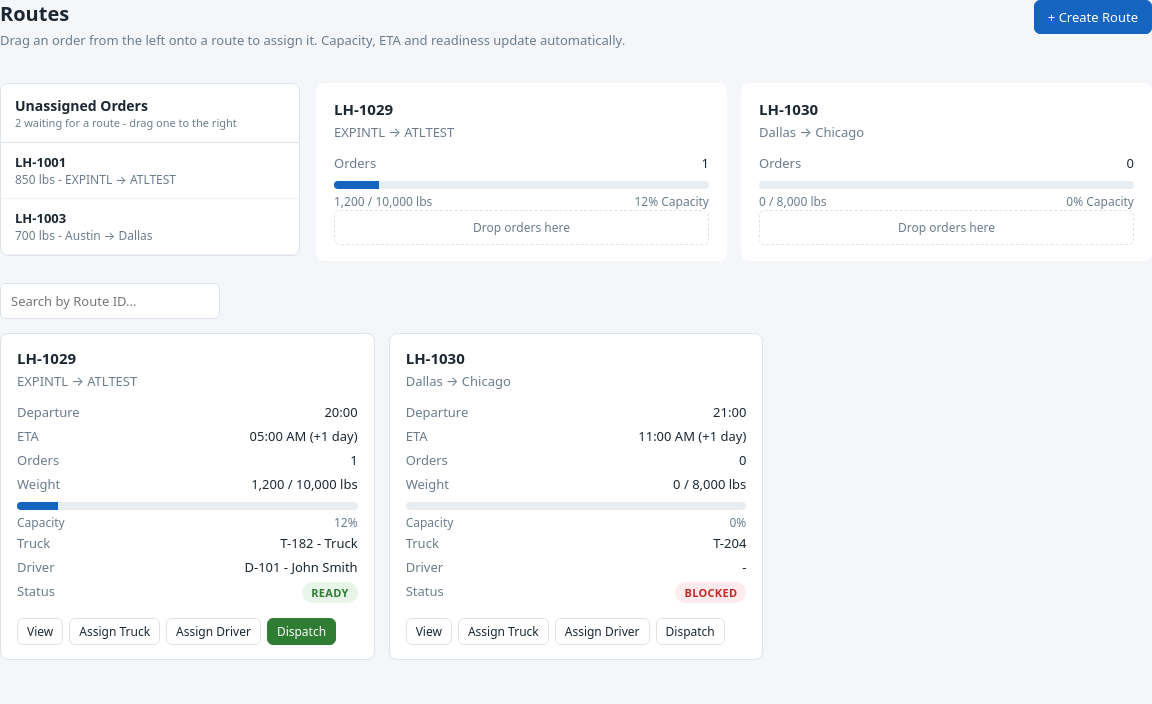
Scenario: Routes page › opens the route details modal with readiness checklist and its orders
This screenshot has width=1152, height=704.
Click the button "View" below "READY": click(40, 632) [17,618,63,645]
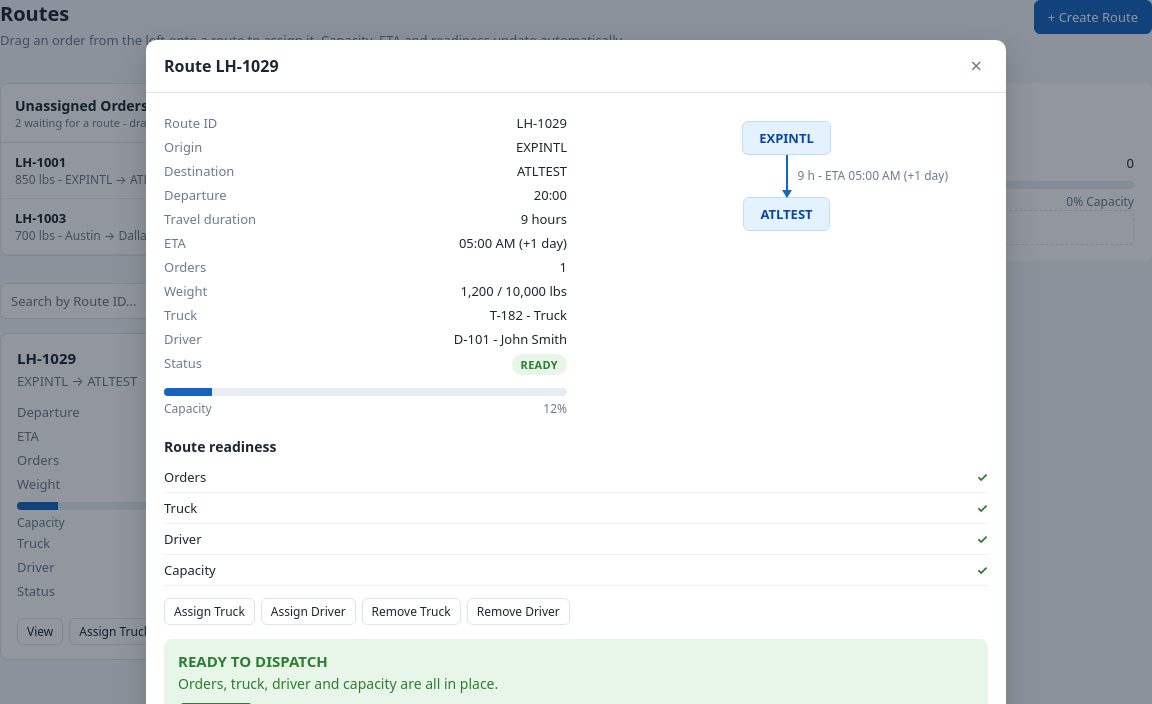
Expected: the heading "Route LH-1029" is shown, [164,55,279,77]
Expected: the heading "Route readiness" is shown, [164,437,276,456]
Expected: the text "EXPINTL" in the row of "Origin" is shown, [516,138,567,156]
